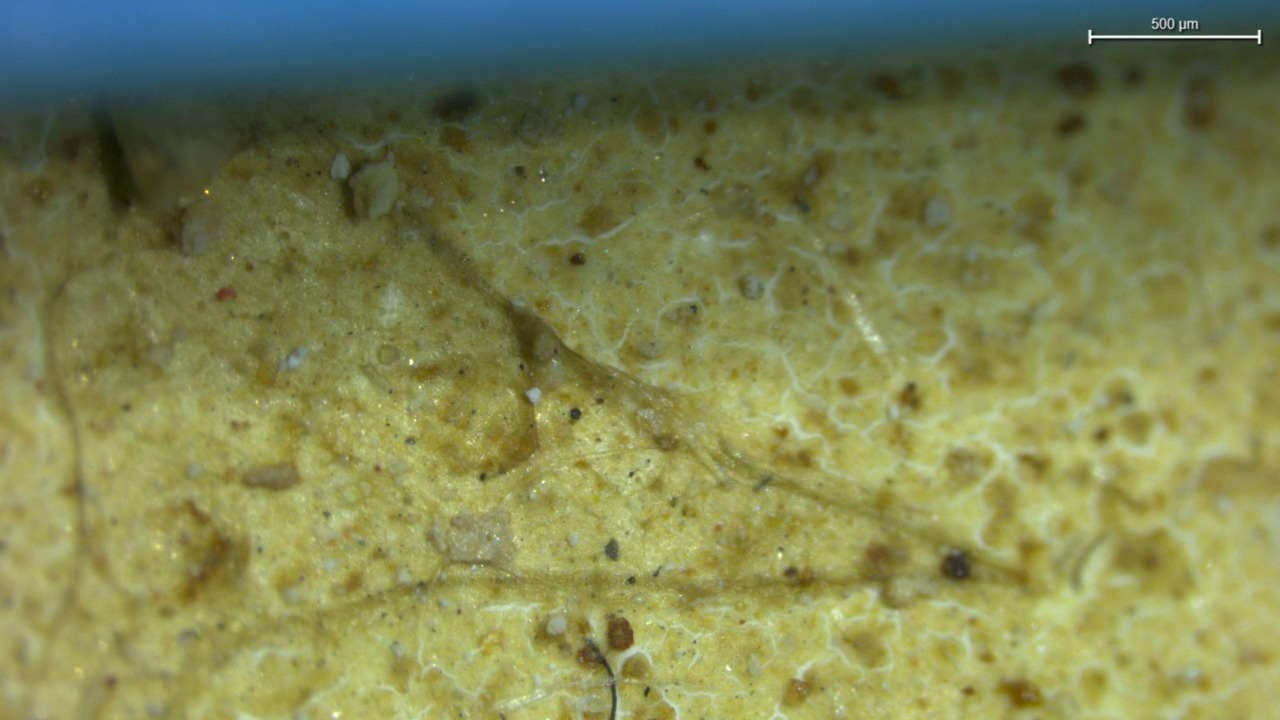microplastic_fragment: (347, 159, 402, 220)
